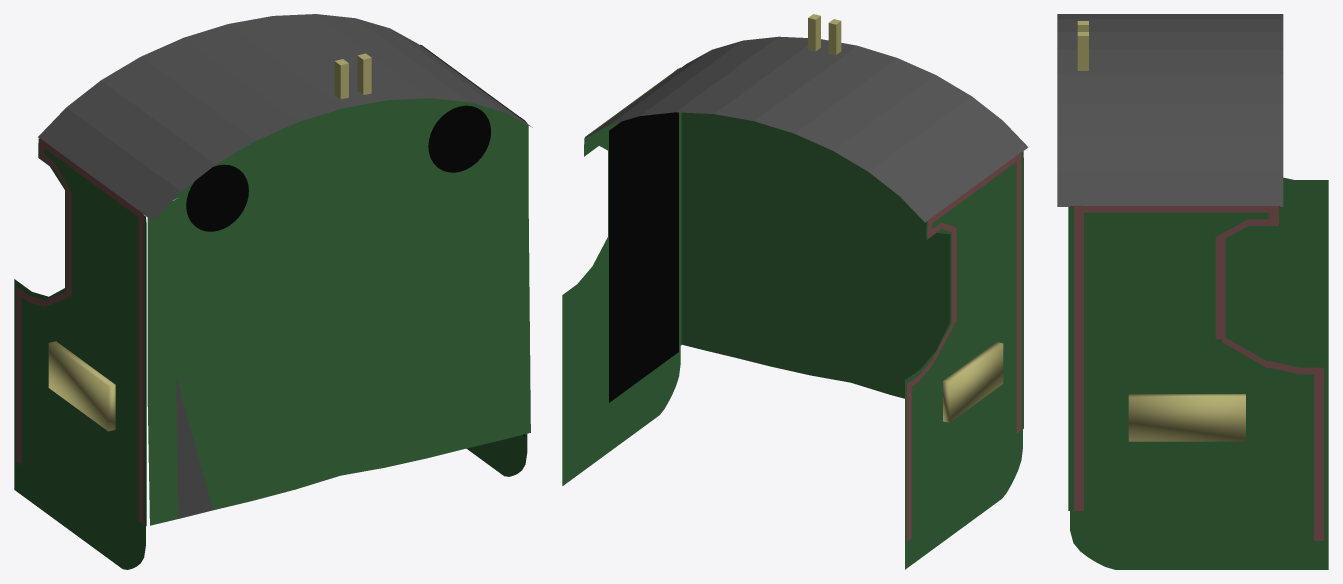
Rendered from gwr-armstrong-cab.dae.
The picture shows the model from 3 angles, left to right: view 1: azimuth 30°, elevation 25°; view 2: azimuth 150°, elevation 25°; view 3: azimuth 270°, elevation 25°; orthographic projection. The views are drawn at different scales.
Parts seen in each view (by area): view 1: Tube_001, Plane_055, Cube_045, Cylinder_056, Cylinder_055, Plane_029, Plane_056, Plane_030, Plane_032; view 2: Tube_001, Plane_055, Plane_052, Plane_056, Cube_045, Plane_029, Plane_030, Plane_032; view 3: Plane_056, Tube_001, Plane_055, Cube_046, Plane_050, Plane_049, Plane_047, Plane_043, Cube_017_008.
Boxes of the visible parts, x1,y1,x2,y2 form: Tube_001: (38,14,532,525); Plane_055: (14,138,146,569); Cube_045: (48,341,115,431); Cylinder_056: (428,105,490,172); Cylinder_055: (186,164,248,231); Plane_029: (138,210,143,523); Plane_056: (420,44,527,476); Plane_030: (16,286,21,465); Plane_032: (39,138,142,217); Tube_001: (584,36,1028,398); Plane_055: (905,152,1023,569); Plane_052: (609,112,678,402); Plane_056: (562,67,681,485); Cube_045: (943,342,1003,422); Plane_029: (1016,152,1021,433); Plane_030: (907,381,911,541); Plane_032: (928,153,1020,223); Plane_056: (1068,206,1328,569); Tube_001: (1057,14,1283,206); Plane_055: (1068,177,1328,360); Cube_046: (1128,394,1245,441); Plane_050: (1074,205,1083,510); Plane_049: (1314,368,1323,540); Plane_047: (1076,206,1278,212); Plane_043: (1215,236,1225,339); Cube_017_008: (1077,32,1088,70).
Bounding box in the file's own units: 1.49 × 0.8958 × 1.68.
